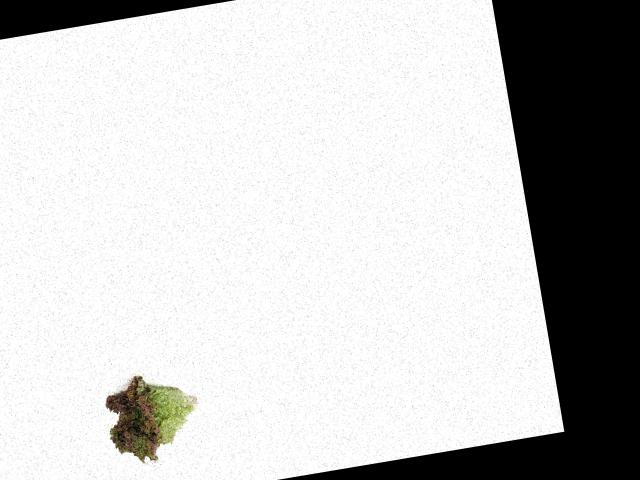lettuce: (87, 358, 208, 473)
